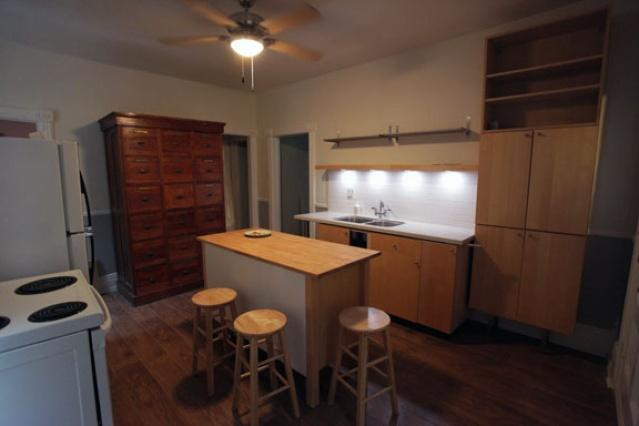Lemari: (467, 2, 612, 337)
